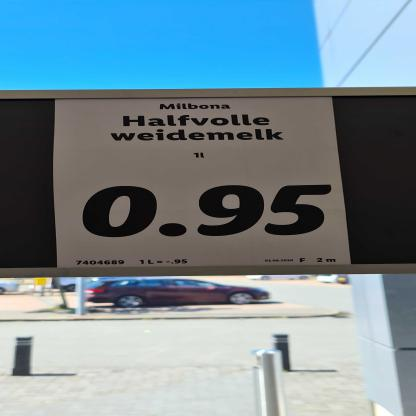prtg: (55, 97, 354, 268)
